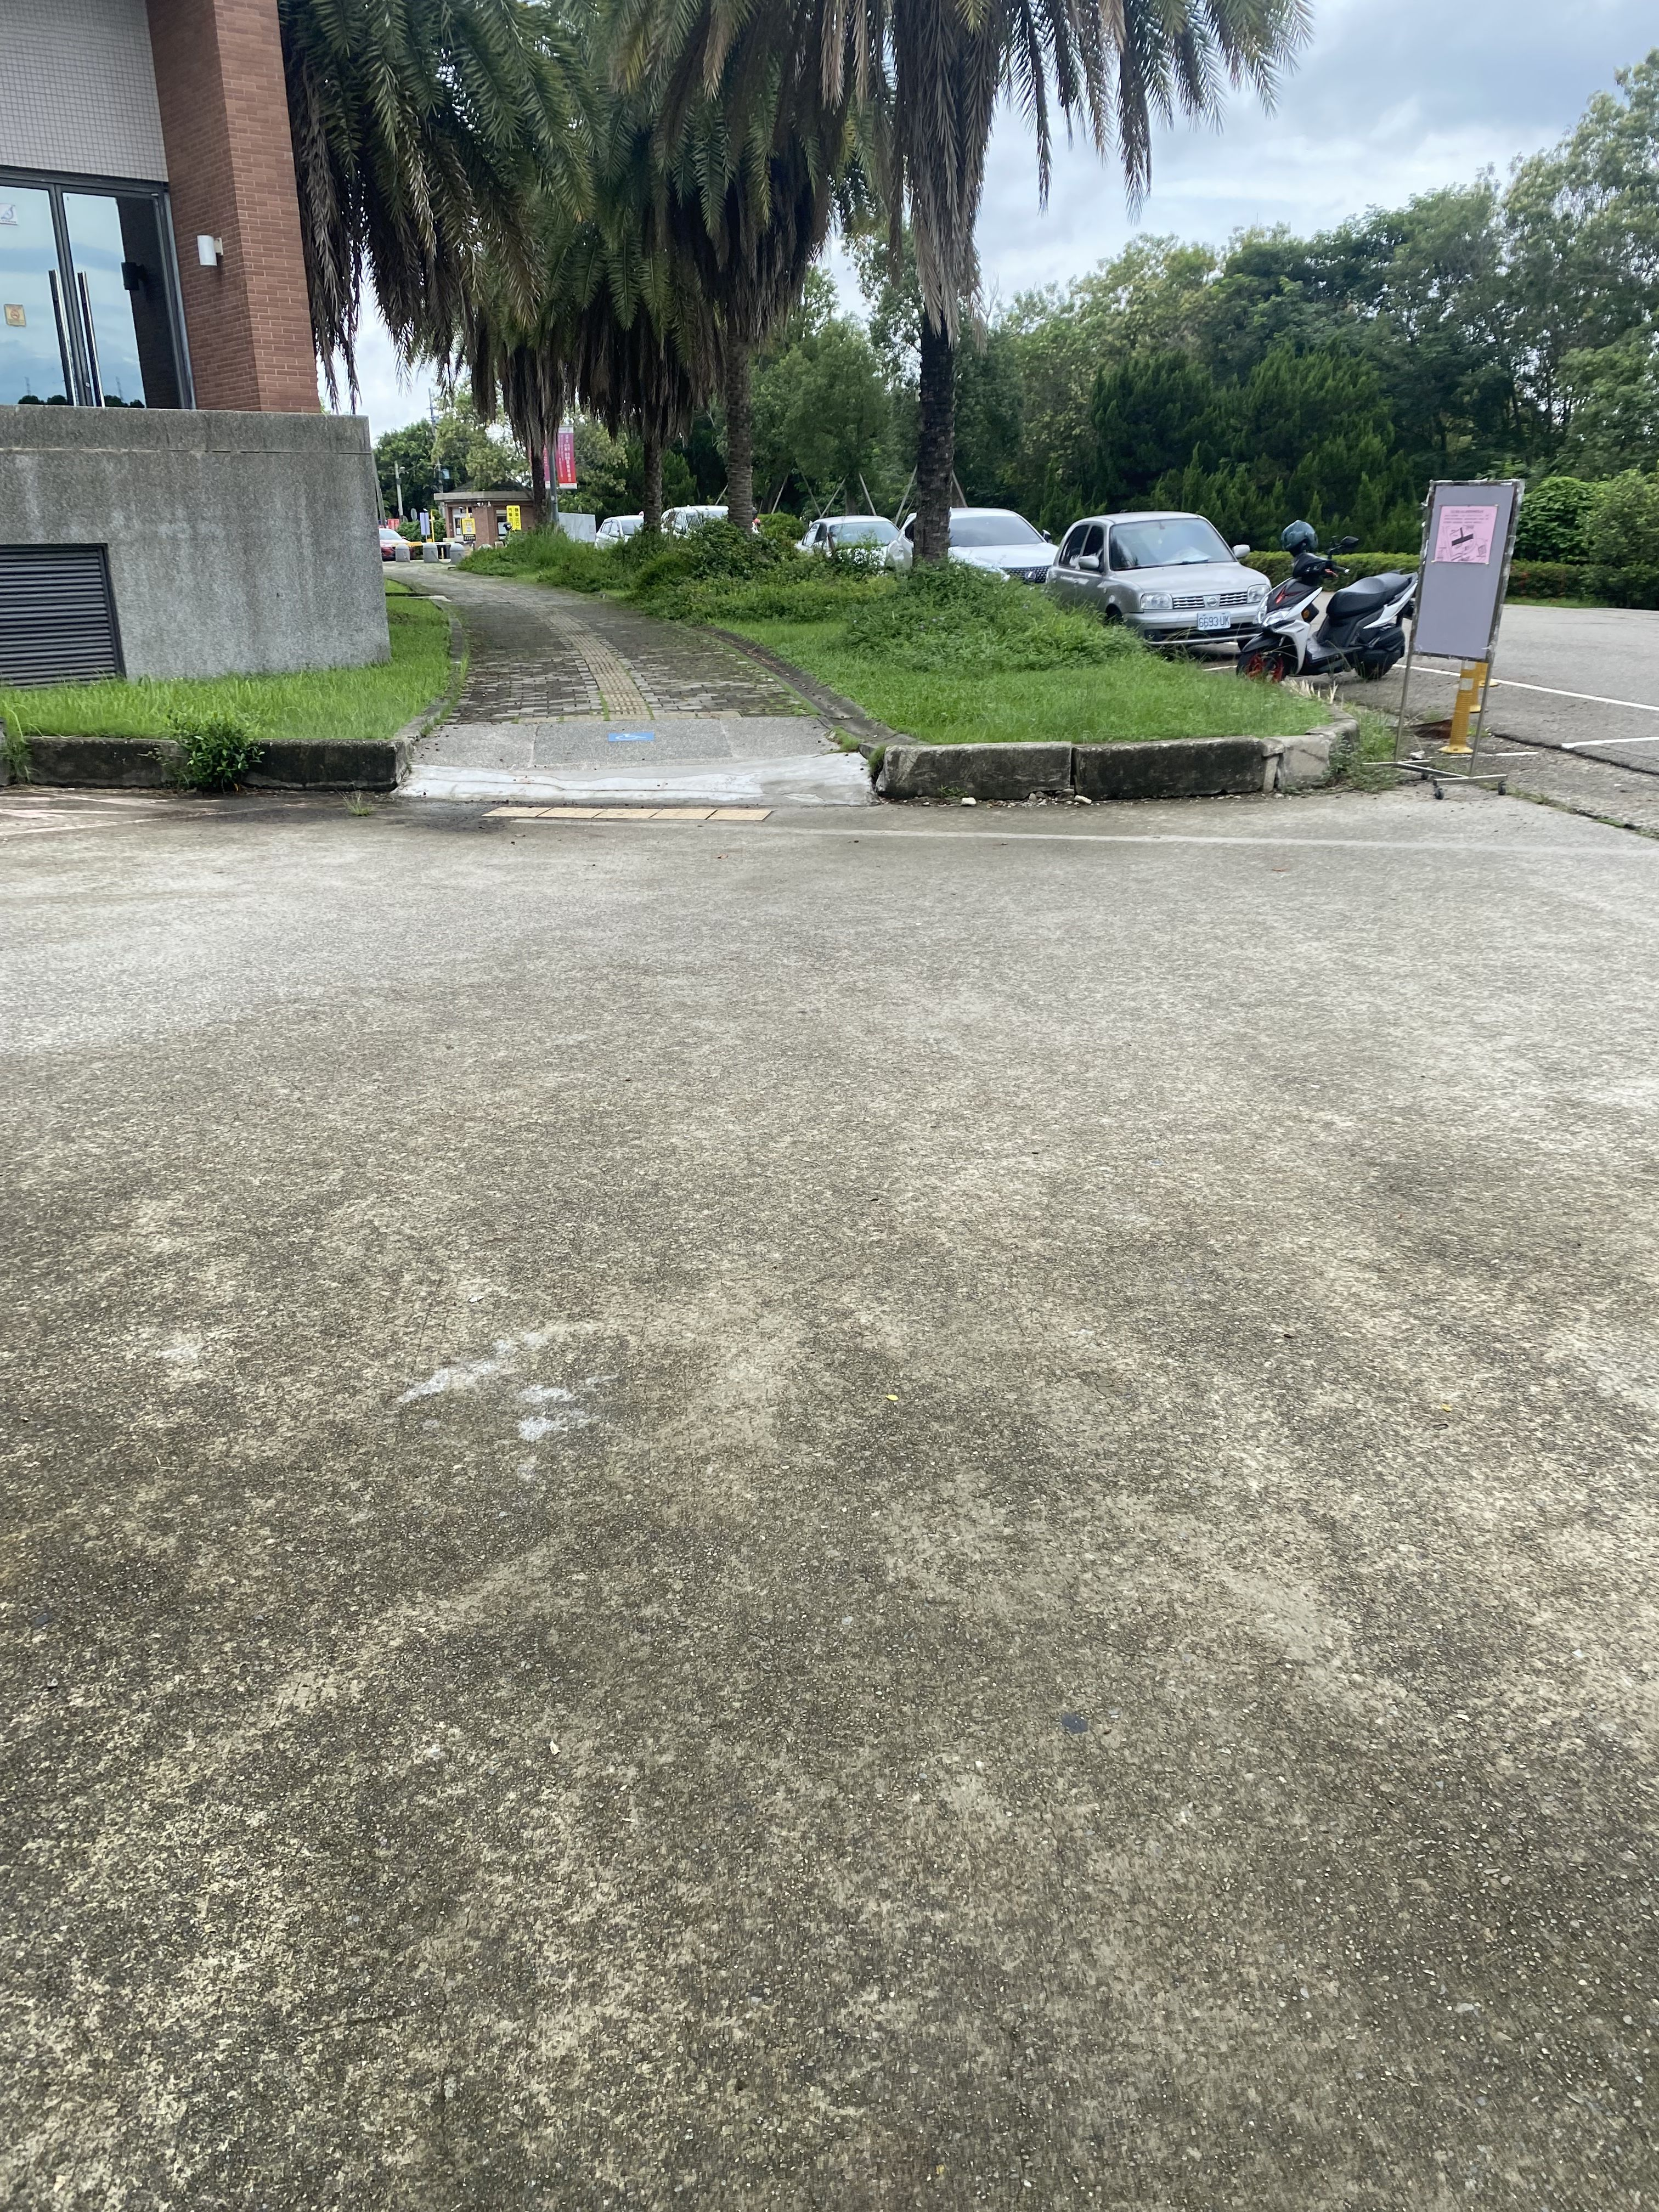sidewalk: (382, 545, 918, 873)
